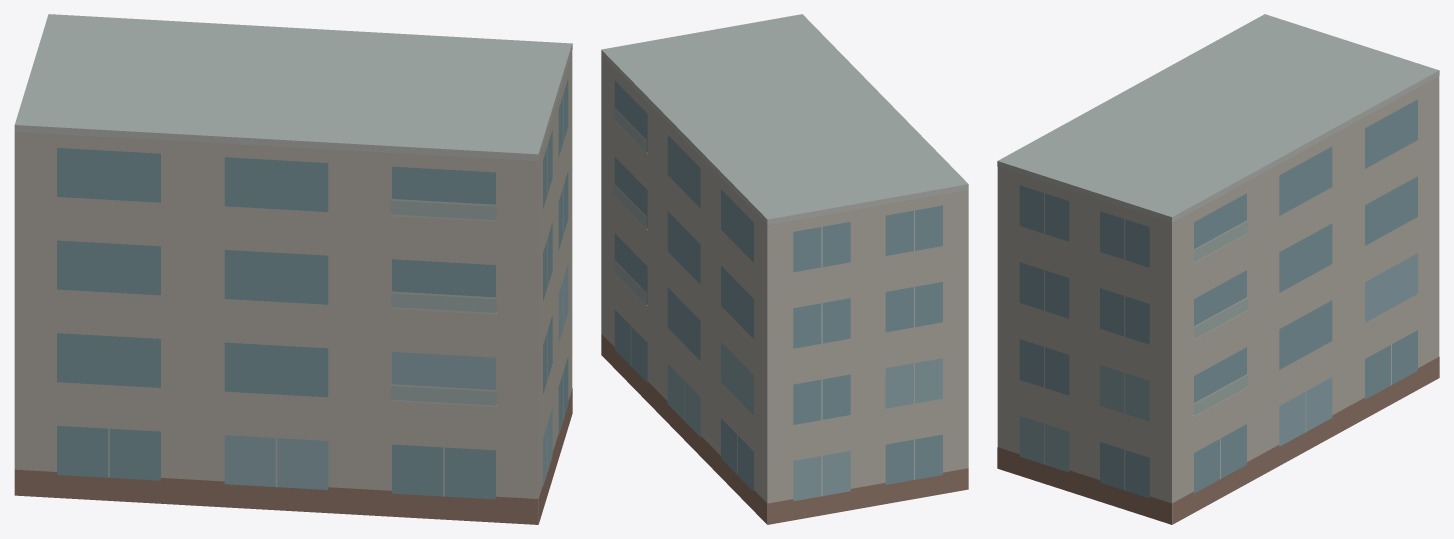
The model's file is survey-upis-32809044.glb.
3 renders of one model, left to right at view 1: azimuth 30°, elevation 25°; view 2: azimuth 150°, elevation 25°; view 3: azimuth 270°, elevation 25°, orthographic. The views are drawn at different scales.
Parts seen in each view (by area): view 1: survey-upis-32809044.tmp; view 2: survey-upis-32809044.tmp; view 3: survey-upis-32809044.tmp.
Part boxes in pixels (bbox=[...]): survey-upis-32809044.tmp: bbox=[14, 14, 572, 524]; survey-upis-32809044.tmp: bbox=[601, 14, 968, 524]; survey-upis-32809044.tmp: bbox=[997, 14, 1439, 524].
Bounding box in the file's own units: 19 × 13.4 × 17.46.
